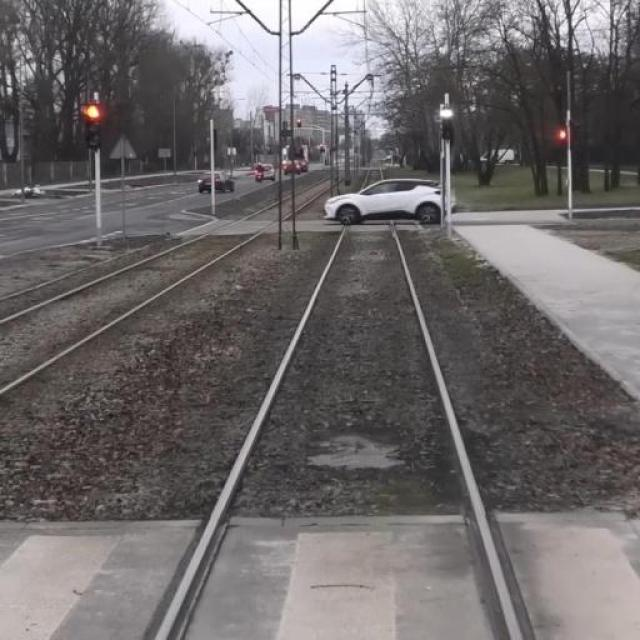vehicle: (317, 172, 465, 227), (190, 169, 238, 196)
